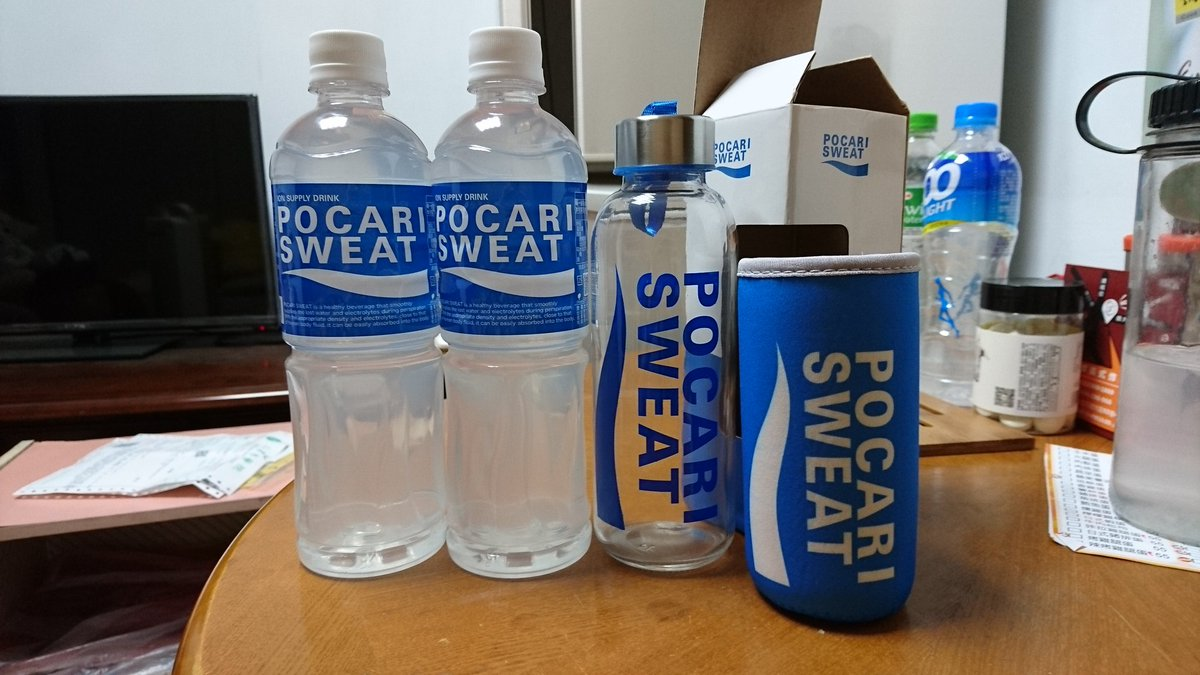POCARI SWEAT: (269, 26, 431, 589), (437, 24, 592, 574)
